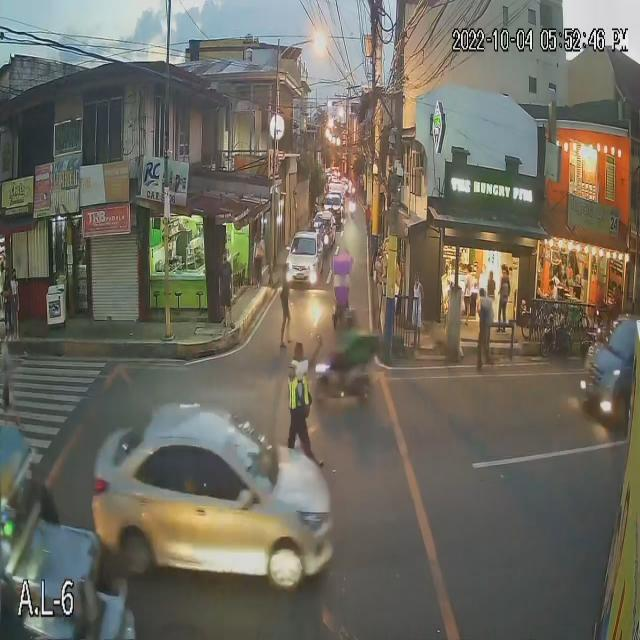helmet: (341, 308, 358, 333)
motorcycle: (310, 361, 372, 400)
rider: (341, 327, 359, 372)
